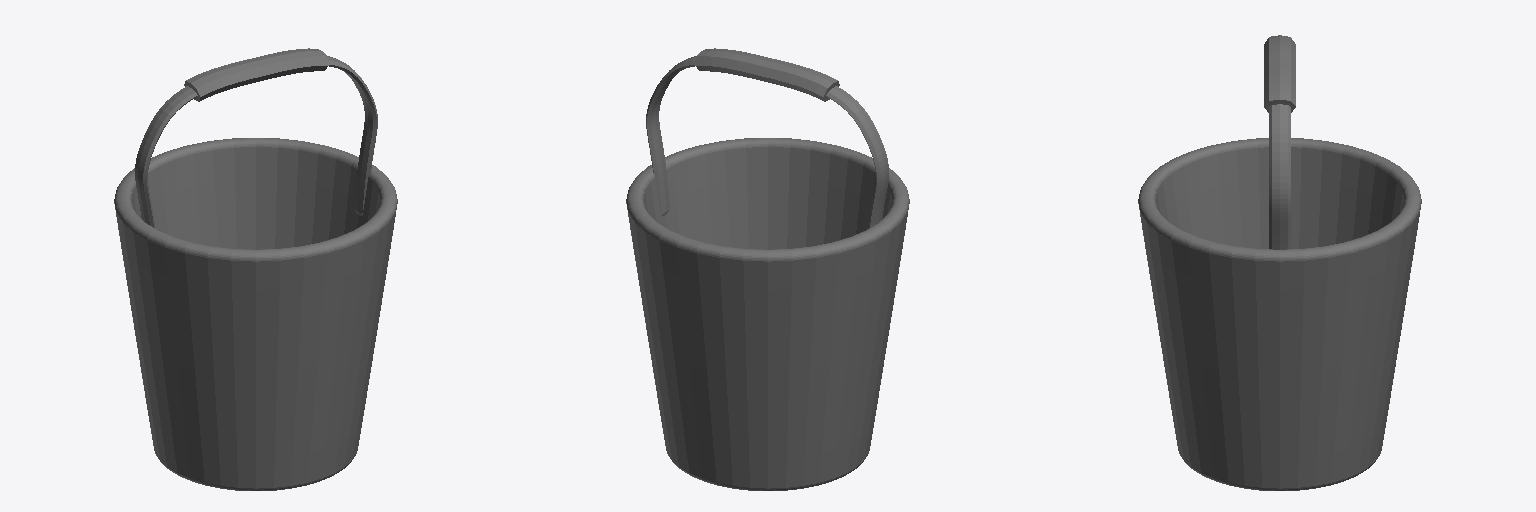
Rendered from wiadro.obj.
3 renders of one model, left to right at view 1: azimuth 30°, elevation 25°; view 2: azimuth 150°, elevation 25°; view 3: azimuth 270°, elevation 25°, orthographic.
Visible parts, largest first — view 1: Cylinder001; view 2: Cylinder001; view 3: Cylinder001.
Part boxes in pixels (left/top/right/bottom): Cylinder001: left=114, top=48, right=397, bottom=490; Cylinder001: left=626, top=48, right=909, bottom=490; Cylinder001: left=1138, top=35, right=1421, bottom=490.
Size of the model in its own units: 3.84 by 5.82 by 3.84.